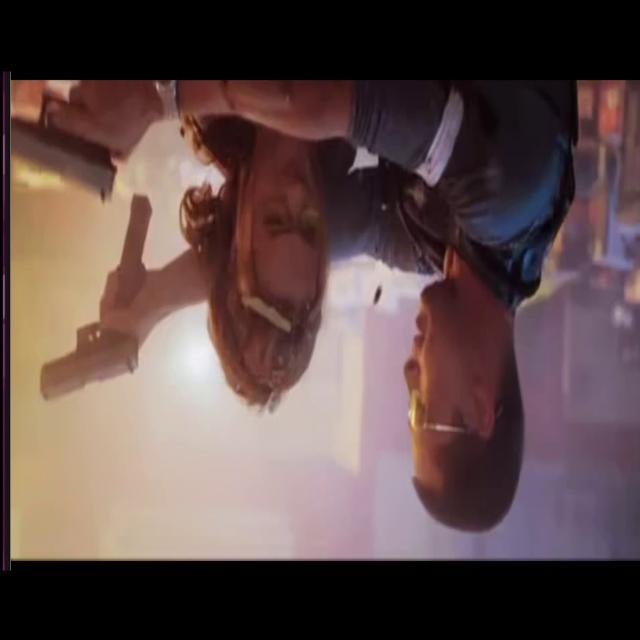weapons: (34, 196, 172, 433)
